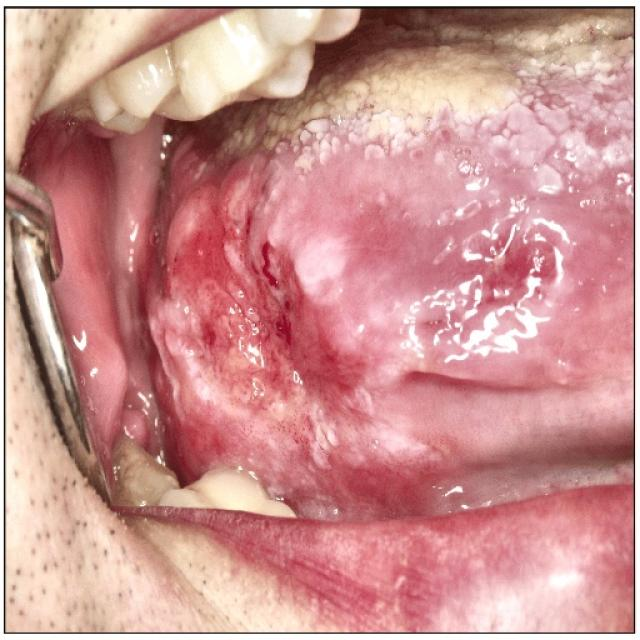cancer-detection: (140, 8, 630, 488)
processing_area: (21, 8, 639, 525)
